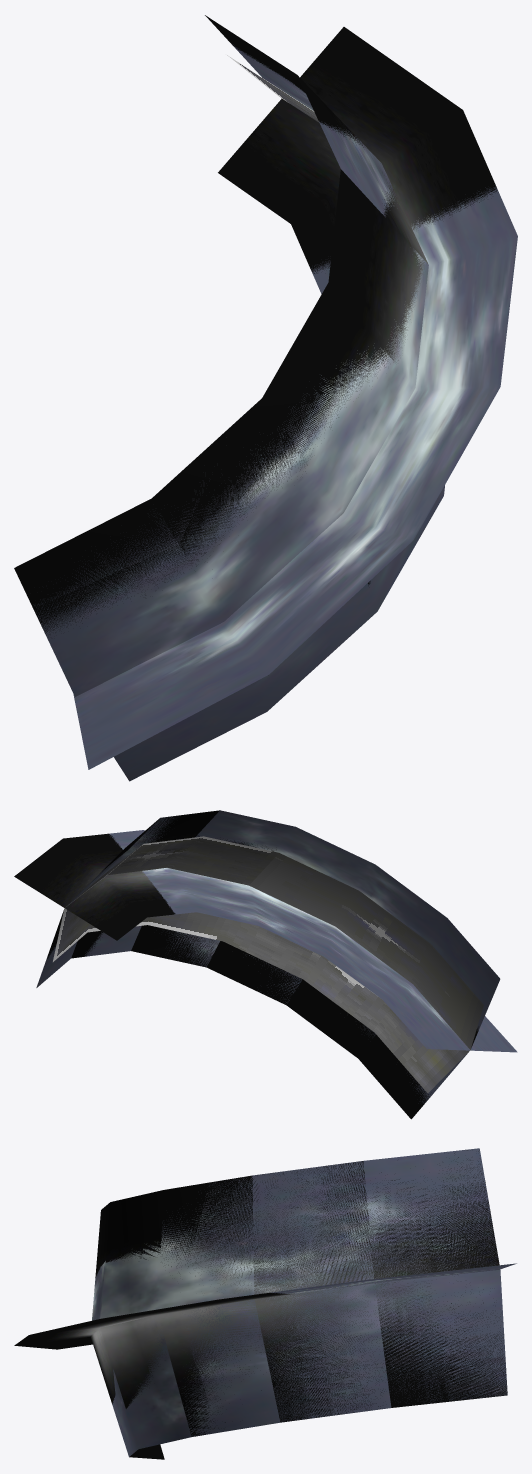
The model's file is Effect_3112attack_S #084906.fbx.
3 renders of one model, top to bottom at view 1: azimuth 30°, elevation 25°; view 2: azimuth 150°, elevation 25°; view 3: azimuth 270°, elevation 25°, orthographic. The views are drawn at different scales.
Visible parts, largest first — view 1: Effect_1001tattack01, Effect_1001tattack04; view 2: Effect_1001tattack01, Effect_1001tattack02, Effect_1001tattack04; view 3: Effect_1001tattack01, Effect_1001tattack04.
Part boxes in pixels (x1,y1,x2,y2): Effect_1001tattack01: (33, 44, 517, 781); Effect_1001tattack04: (14, 15, 497, 634); Effect_1001tattack01: (36, 810, 517, 1103); Effect_1001tattack02: (53, 836, 483, 1093); Effect_1001tattack04: (14, 810, 478, 1119); Effect_1001tattack01: (92, 1148, 516, 1456); Effect_1001tattack04: (14, 1150, 507, 1459).
Size of the model in its own units: 2.75 by 2.4 by 2.63.
4 materials, 4 textured.
